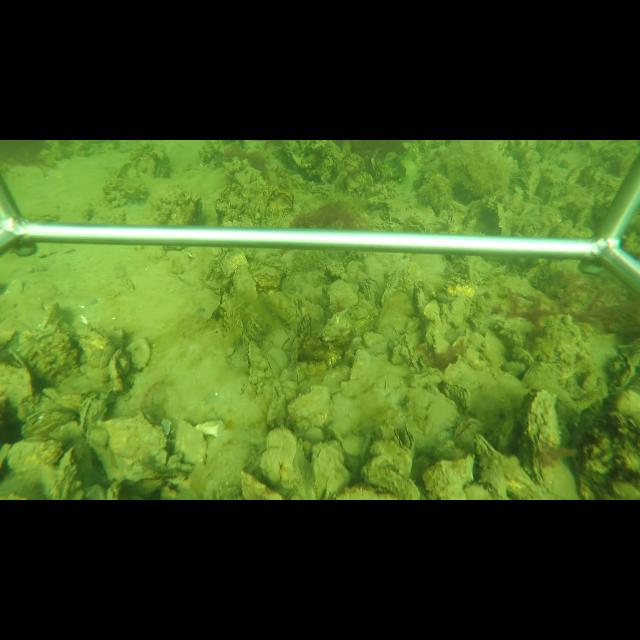Oyster-Closed: (518, 389, 583, 498), (472, 433, 540, 499), (91, 412, 169, 465), (257, 427, 309, 495), (364, 456, 422, 499), (310, 438, 352, 497), (285, 383, 335, 431), (171, 417, 210, 466), (338, 349, 375, 398), (264, 289, 305, 328), (78, 395, 105, 440), (378, 420, 412, 453), (232, 267, 261, 304), (483, 194, 509, 235), (216, 249, 248, 281), (126, 334, 152, 373), (399, 331, 421, 375), (246, 339, 265, 370), (411, 280, 426, 316), (403, 419, 415, 452)
Oyster-Open: (611, 352, 635, 391)
